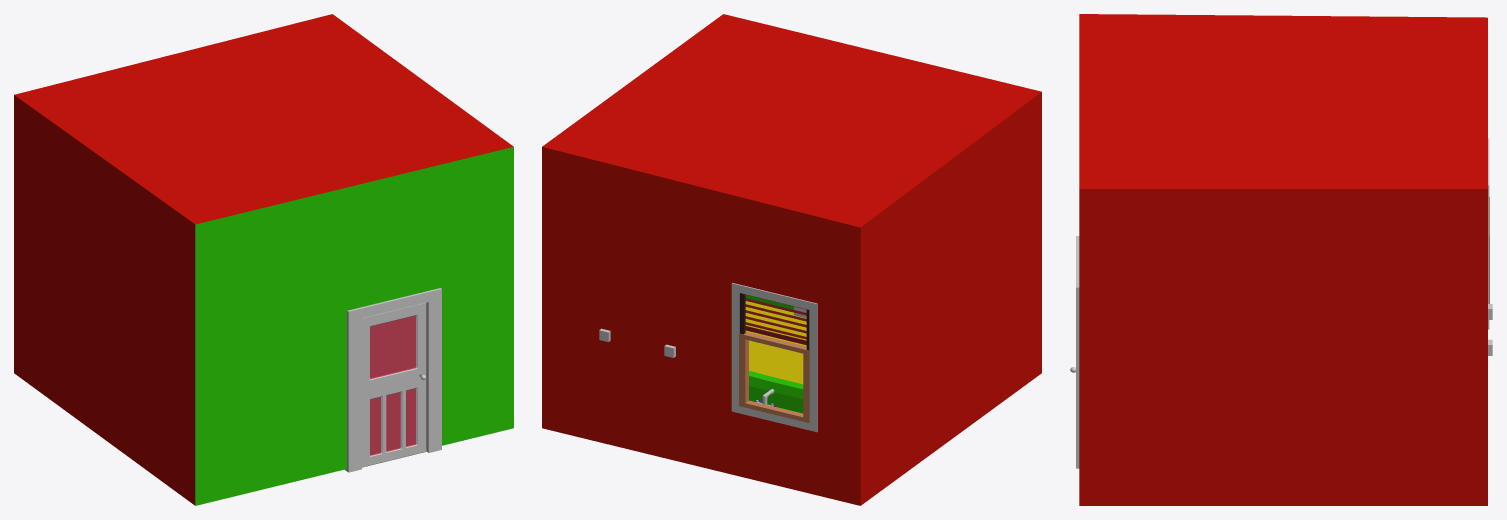
Rendered from Models.fbx.
3 renders of one model, left to right at view 1: azimuth 30°, elevation 25°; view 2: azimuth 150°, elevation 25°; view 3: azimuth 270°, elevation 25°, orthographic. The views are drawn at different scales.
Parts seen in each view (by area): view 1: Walls, Door, Door-Border; view 2: Walls, Window-Edge, Bathtub; view 3: Walls, Door-Border.
Boxes of the visible parts, x1,y1,x2,y2 form: Walls: [14, 14, 513, 505]; Door: [362, 302, 426, 467]; Door-Border: [345, 288, 441, 472]; Walls: [542, 14, 1041, 505]; Window-Edge: [731, 283, 817, 432]; Bathtub: [749, 370, 803, 413]; Walls: [1079, 14, 1487, 505]; Door-Border: [1076, 236, 1079, 468].
Size of the model in its own units: 1002 by 883 by 1022.
